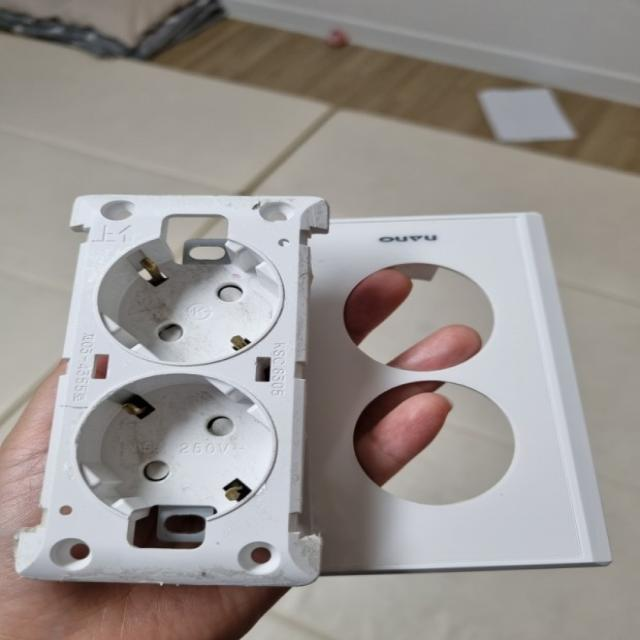typeb: (30, 150, 324, 604)
